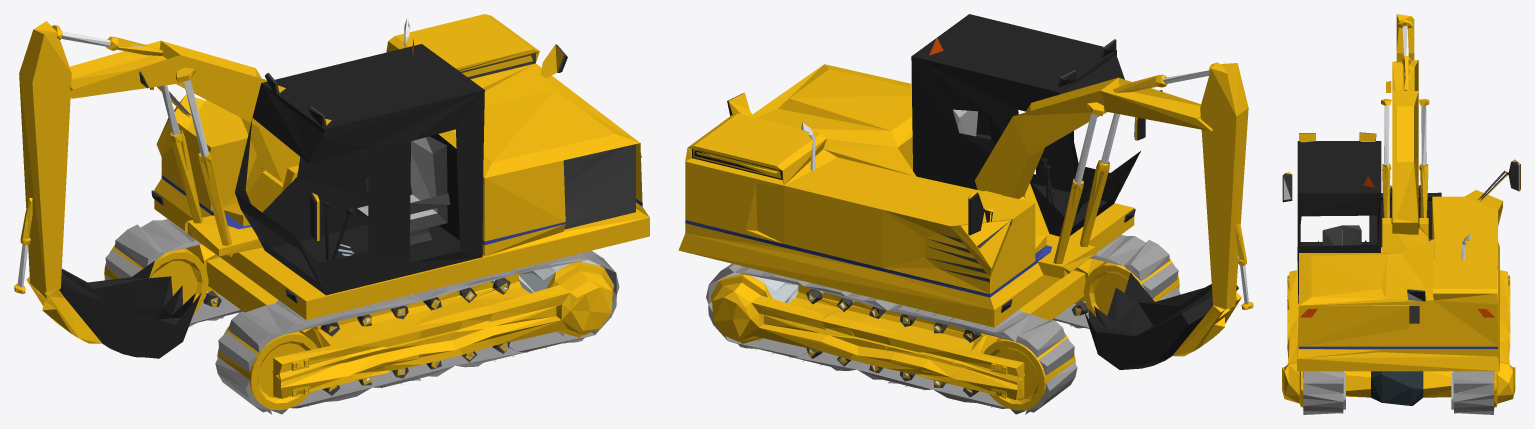
The model's file is exca-mini.glb.
3 renders of one model, left to right at view 1: azimuth 30°, elevation 25°; view 2: azimuth 150°, elevation 25°; view 3: azimuth 270°, elevation 25°, orthographic. The views are drawn at different scales.
Parts seen in each view (by area): view 1: object 1, Cylinder.074, Cube.144, Cube.145, Cylinder.073, Cylinder.082, Cube.133, Cube.132, Cylinder.075, Cube.134, Cube.135, Cylinder.076; view 2: object 1, Cylinder.083, Cube.145, Cube.144, Cylinder.082, Cylinder.073, Cube.132, Cube.133, Cylinder.084, Cube.134, Cube.135, Cylinder.085; view 3: object 1, Cylinder.083, Cylinder.074, Cube.144, Cube.145, Cube.132, Cube.133, Cube.134.
Part boxes in pixels (x1,y1,x2,y2): object 1: (19, 14, 649, 358); Cylinder.074: (273, 260, 614, 398); Cube.144: (215, 250, 619, 414); Cube.145: (104, 219, 243, 326); Cylinder.073: (217, 326, 317, 410); Cylinder.082: (104, 245, 208, 313); Cube.133: (176, 67, 232, 256); Cube.132: (160, 85, 202, 223); Cylinder.075: (320, 277, 510, 336); Cube.134: (52, 25, 162, 55); Cube.135: (14, 198, 32, 293); Cylinder.076: (322, 342, 510, 395); object 1: (678, 14, 1248, 369); Cylinder.083: (711, 272, 1024, 399); Cube.145: (706, 263, 1077, 414); Cube.144: (1052, 234, 1180, 328); Cylinder.082: (983, 333, 1075, 410); Cylinder.073: (1083, 258, 1179, 316); Cube.132: (1053, 102, 1104, 263); Cube.133: (1079, 113, 1119, 246); Cylinder.084: (806, 288, 980, 342); Cube.134: (1113, 62, 1220, 92); Cube.135: (1235, 222, 1253, 309); Cylinder.085: (806, 348, 978, 397); object 1: (1282, 14, 1520, 405); Cylinder.083: (1451, 270, 1515, 409); Cylinder.074: (1282, 270, 1345, 409); Cube.144: (1302, 371, 1343, 414); Cube.145: (1453, 371, 1494, 414); Cube.132: (1419, 99, 1429, 217); Cube.133: (1381, 99, 1391, 217); Cube.134: (1398, 19, 1412, 90).
Size of the model in its own units: 16.83 by 10.69 by 9.37.
Materials: 1 (1 with a texture image).
